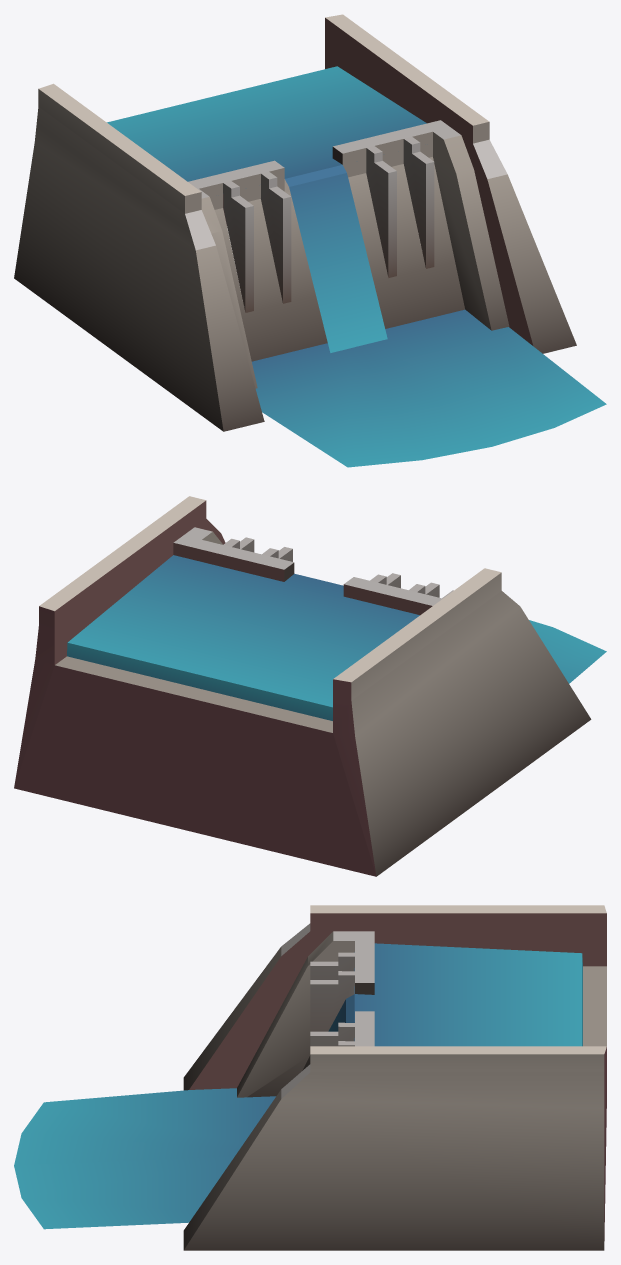
File: Icono3D_Presa.fbx
3 views of the same model, one above another, from view 1: azimuth 30°, elevation 25°; view 2: azimuth 150°, elevation 25°; view 3: azimuth 270°, elevation 25° (orthographic). The views are drawn at different scales.
Parts seen in each view (by area): view 1: Cube, Cube.005, Cube.006; view 2: Cube, Cube.006, Cube.005; view 3: Cube, Cube.005, Cube.006.
Part boxes in pixels (x1,y1,x2,y2): Cube: [14, 14, 576, 431]; Cube.005: [252, 309, 606, 467]; Cube.006: [107, 66, 426, 352]; Cube: [14, 496, 591, 876]; Cube.006: [67, 555, 419, 720]; Cube.005: [529, 620, 606, 683]; Cube: [183, 905, 606, 1250]; Cube.005: [14, 1088, 275, 1229]; Cube.006: [328, 943, 582, 1046].
Size of the model in its own units: 129 by 187 by 64.22.
